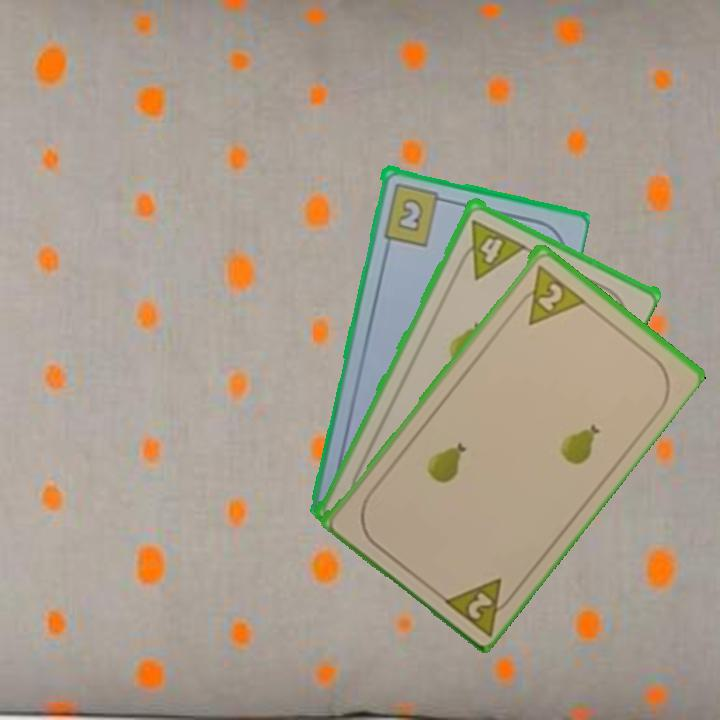2b: (379, 179, 450, 248)
2p: (437, 573, 521, 638), (511, 260, 587, 328)
4p: (453, 215, 528, 281)
